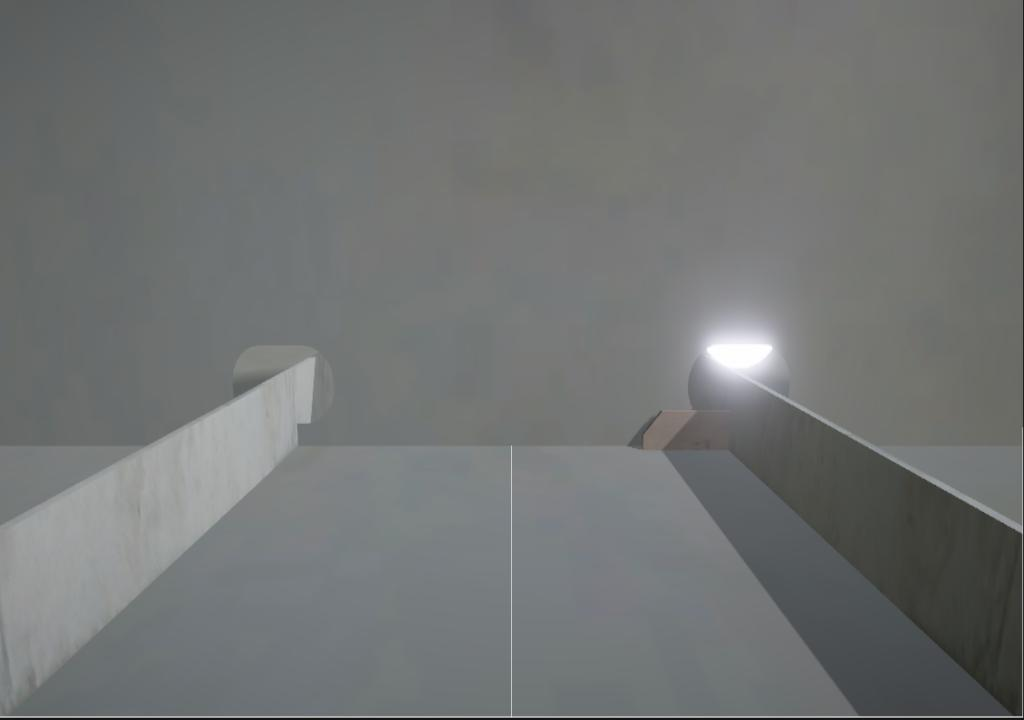fillet_yong_jeop_jang: (293, 440, 644, 452)
longi_yong_jeop_jang: (293, 419, 303, 452)
plate_CP03: (642, 408, 729, 451)
